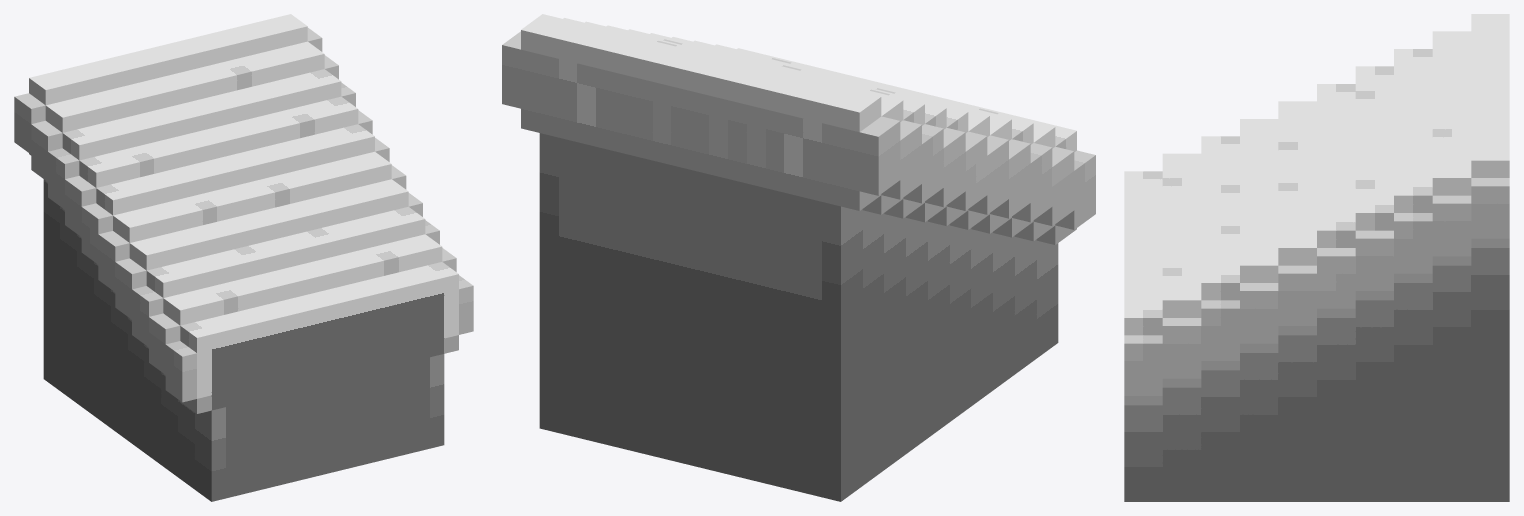
File: half_ramp_full.glb
The picture shows the model from 3 angles, left to right: view 1: azimuth 30°, elevation 25°; view 2: azimuth 150°, elevation 25°; view 3: azimuth 270°, elevation 25°; orthographic projection. The views are drawn at different scales.
Parts seen in each view (by area): view 1: half_ramp_full; view 2: half_ramp_full; view 3: half_ramp_full.
Part boxes in pixels (x1,y1,x2,y2): half_ramp_full: (14,14,473,501); half_ramp_full: (502,14,1095,501); half_ramp_full: (1124,14,1509,501).
Bounding box in the file's own units: 2 × 2 × 2.
1 material, 1 textured.
